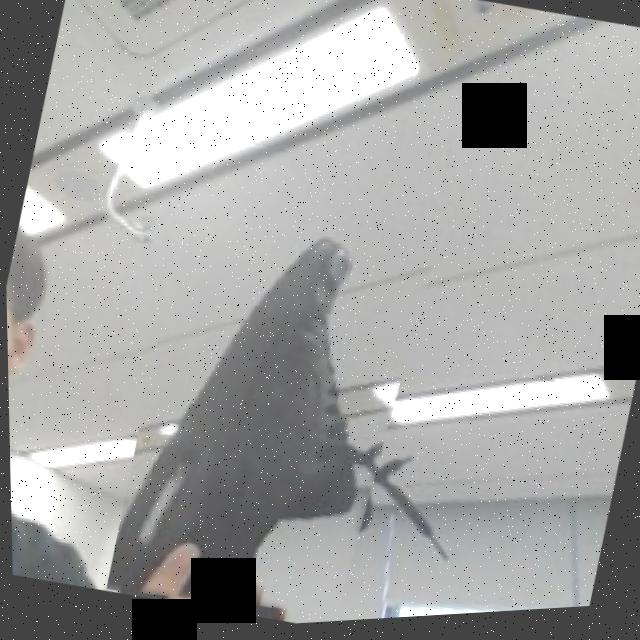shoe: (95, 175, 449, 636)
